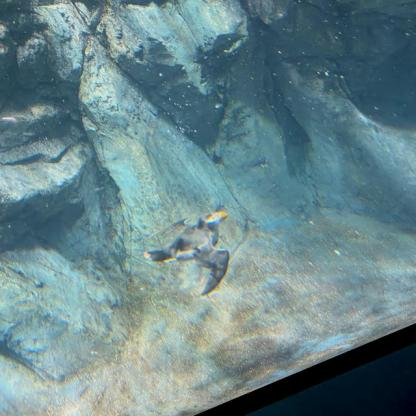fish: (108, 60, 178, 94)
puffin: (142, 206, 239, 295)
